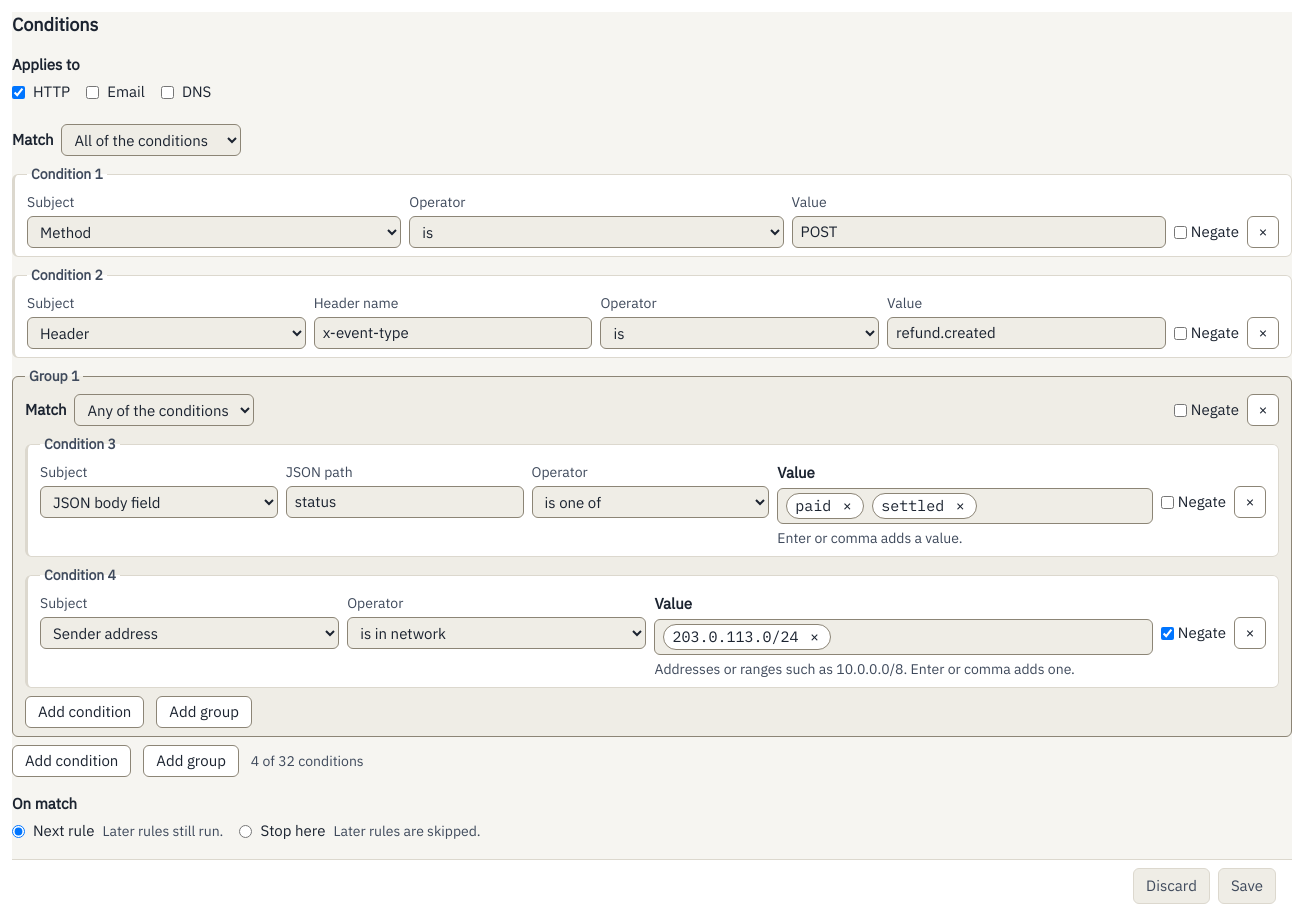
RuleConditionsEditor › blocks an unfinished row before any request, shows why and focuses the first problem
Click the button "Add condition" in the row of "4 of 32 conditions" at (72, 761), box [12,745,131,777]
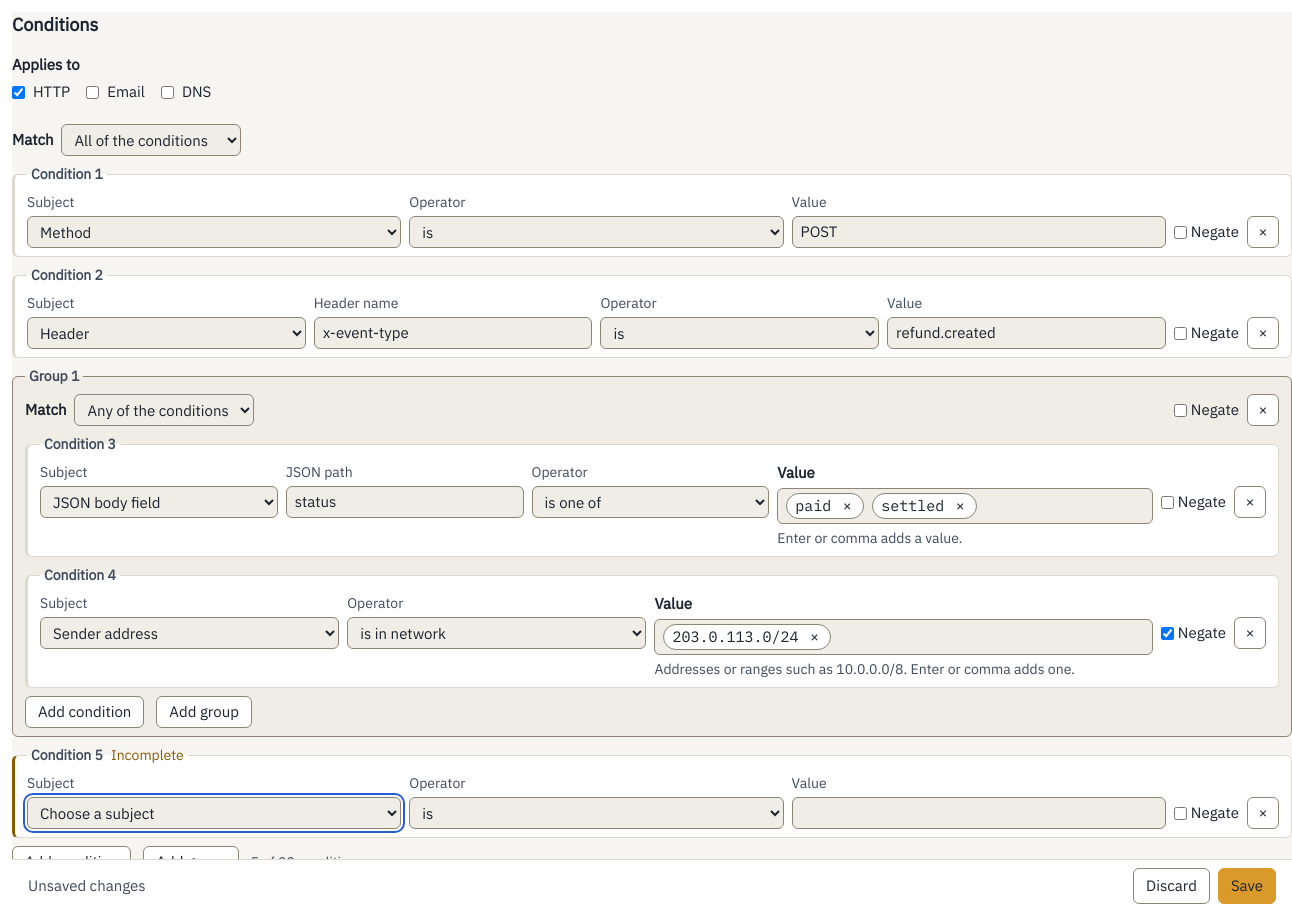
Click the button "Save" at (1247, 886), box [1218,868,1276,904]
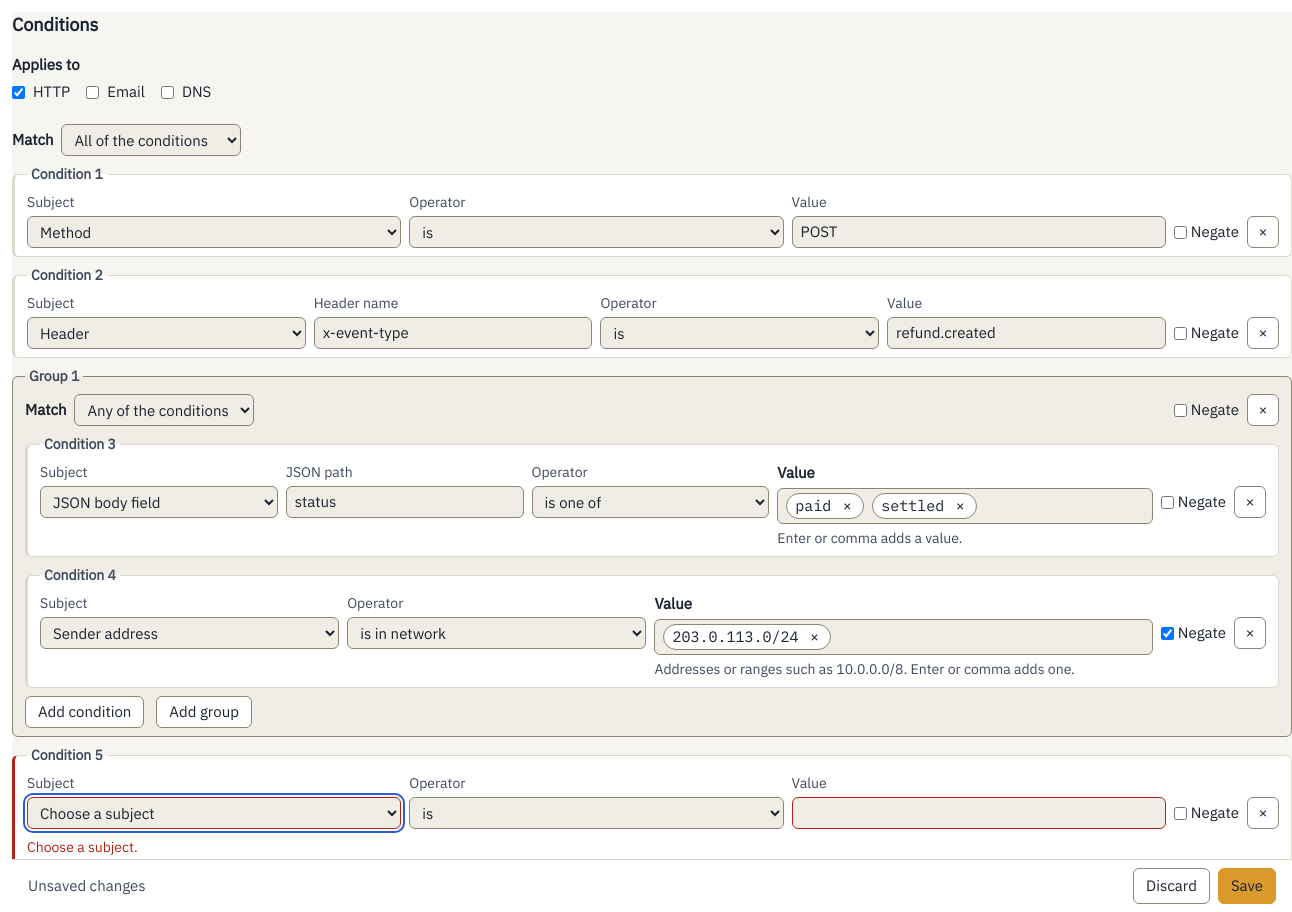
Result: the list item "Choose a subject." is shown at [27,838,138,856]
